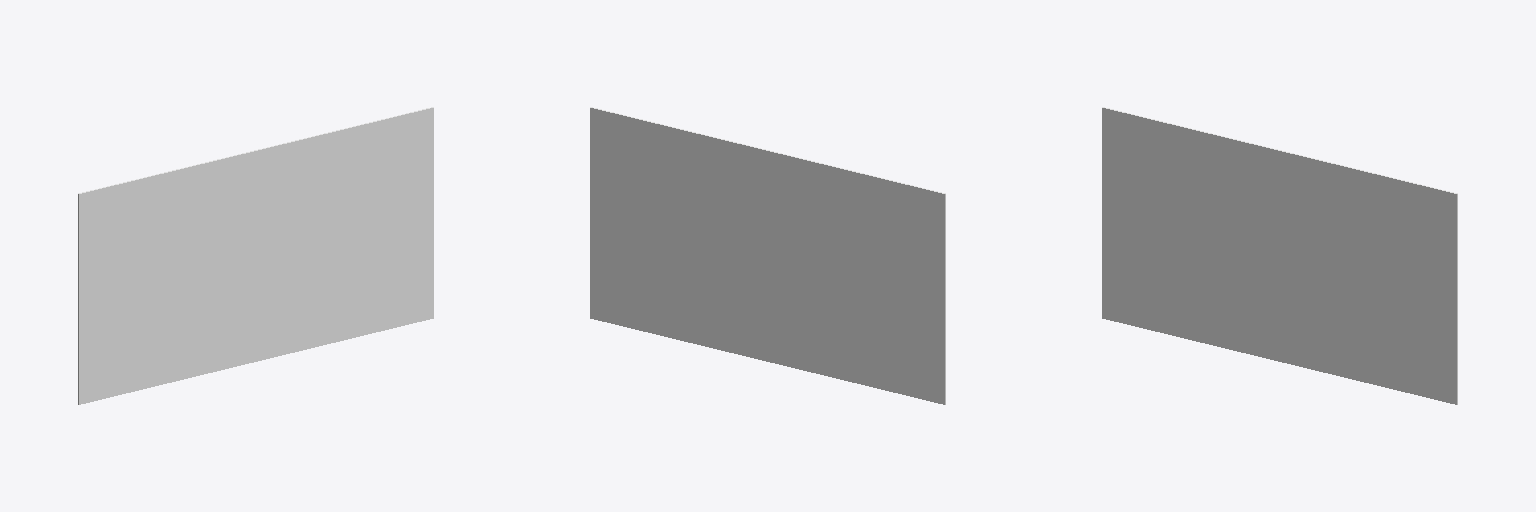
File: schilderij.obj
3 views of the same model, side by side, from view 1: azimuth 30°, elevation 25°; view 2: azimuth 150°, elevation 25°; view 3: azimuth 330°, elevation 25° (orthographic).
Parts seen in each view (by area): view 1: pxArt(2); view 2: pxArt(2); view 3: pxArt(2).
Boxes of the visible parts, box(x1,y1,x2,y2) form: pxArt(2): box(78, 107, 433, 404); pxArt(2): box(590, 107, 945, 404); pxArt(2): box(1102, 107, 1457, 404).
Bounding box in the file's own units: 23.4 × 13.3 × 0.1.